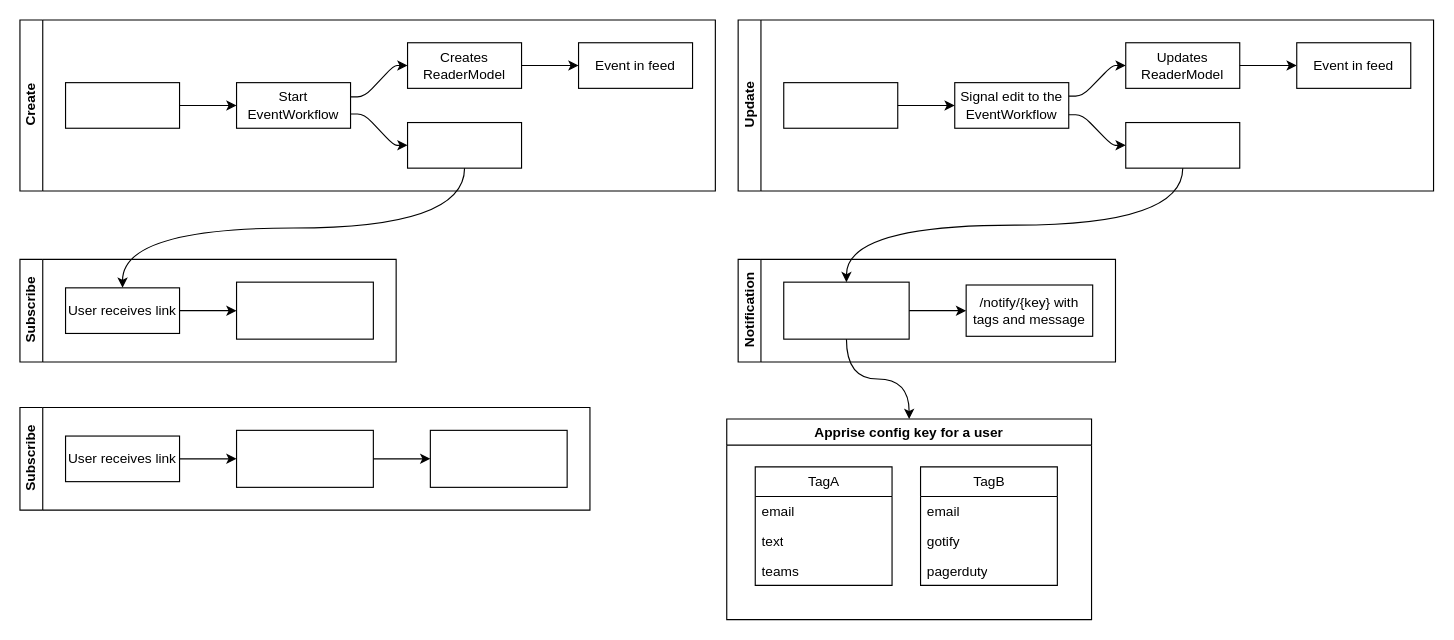
Image size: 1454x640. Some labels were removed from this diagram. Here are the shapes that lost their labels. From the top down, the centre of each, then its label:
At (x=122, y=105): "Organizer creates event".
At (x=840, y=105): "Organizer edits event".
At (x=464, y=144): "Returns UUID".
At (x=1182, y=144): "Notify listeners".
At (x=304, y=310): "Adds email to be notified".
At (x=846, y=310): "get apprise config key".
At (x=304, y=458): "User logs in".
At (x=498, y=458): "Adds notification preference to workflow".
